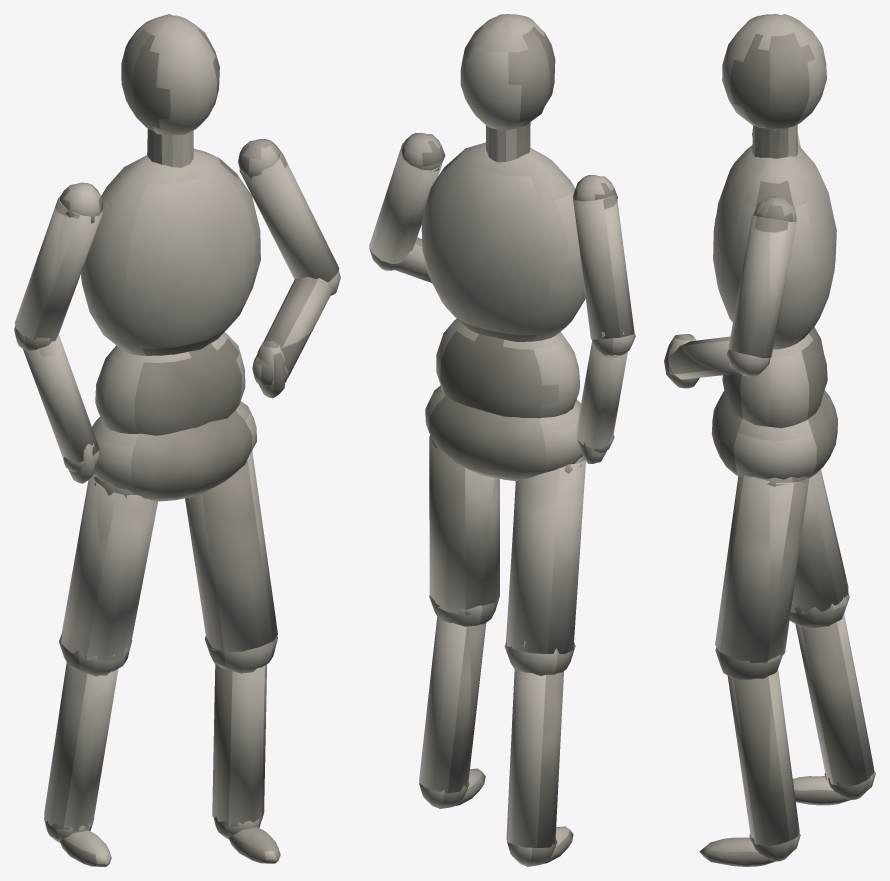
File: M03_mannequin_v2.glb
3 views of the same model, side by side, from view 1: azimuth 30°, elevation 25°; view 2: azimuth 150°, elevation 25°; view 3: azimuth 270°, elevation 25° (orthographic). The views are drawn at different scales.
Parts seen in each view (by area): view 1: M03_mannequin_v2; view 2: M03_mannequin_v2; view 3: M03_mannequin_v2.
Boxes of the visible parts, <box> form: M03_mannequin_v2: <box>14,14,340,866</box>; M03_mannequin_v2: <box>369,14,635,866</box>; M03_mannequin_v2: <box>664,14,875,866</box>.
Bounding box in the file's own units: 0.6617 × 1.8 × 0.4239.
Materials: 1 (1 with a texture image).
